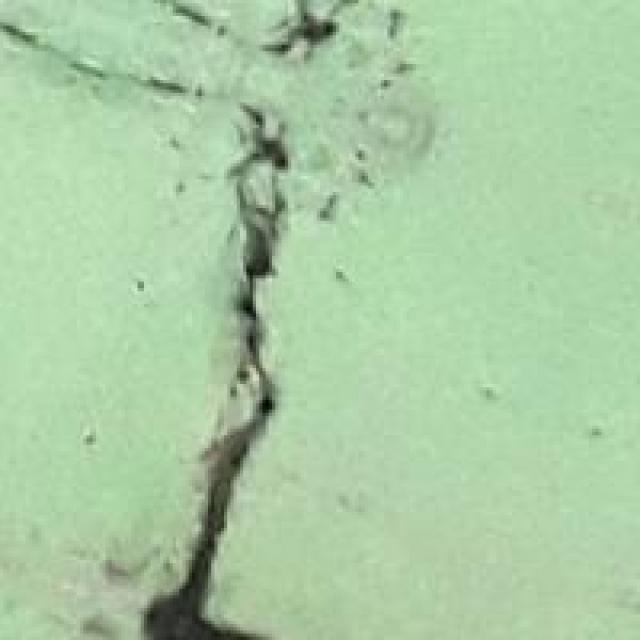Crack: (93, 3, 394, 637)
